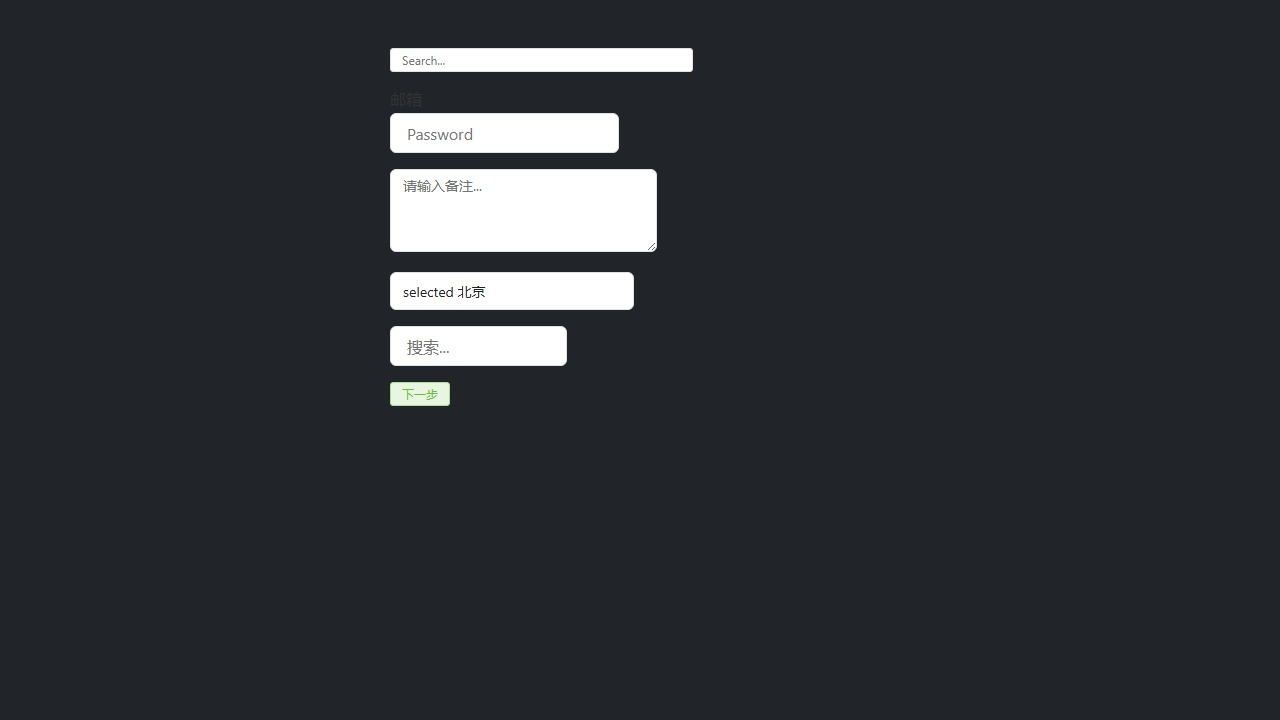button: (390, 382, 450, 406)
input: (390, 113, 619, 153), (390, 48, 693, 72), (390, 326, 567, 366)
select: (390, 272, 634, 310)
textarea: (390, 169, 657, 252)
